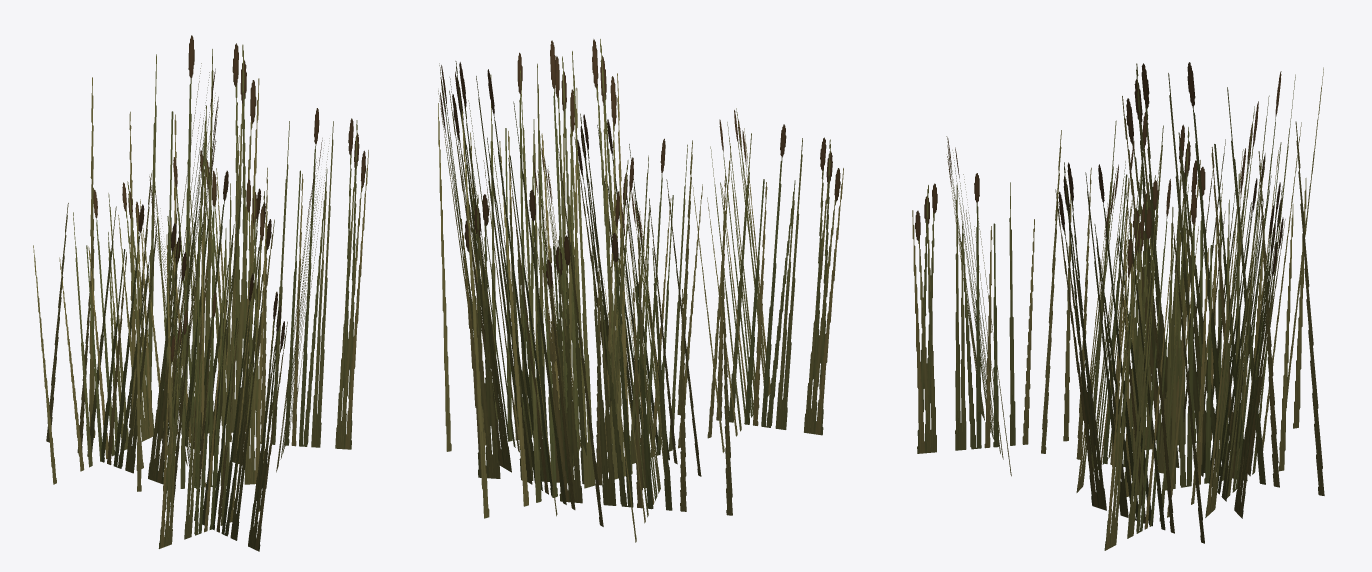
The model's file is SM_Art_Veg_Reeds_1.gltf.
The picture shows the model from 3 angles, left to right: view 1: azimuth 30°, elevation 25°; view 2: azimuth 150°, elevation 25°; view 3: azimuth 270°, elevation 25°; orthographic projection. The views are drawn at different scales.
Visible parts, largest first — view 1: SM_Art_Veg_Reeds_1; view 2: SM_Art_Veg_Reeds_1; view 3: SM_Art_Veg_Reeds_1.
Part boxes in pixels (x1,y1,x2,y2): SM_Art_Veg_Reeds_1: (33,35,368,551); SM_Art_Veg_Reeds_1: (438,39,843,542); SM_Art_Veg_Reeds_1: (912,62,1324,550).
Size of the model in its own units: 1.76 by 1.94 by 1.88.
1 material, 1 textured.
